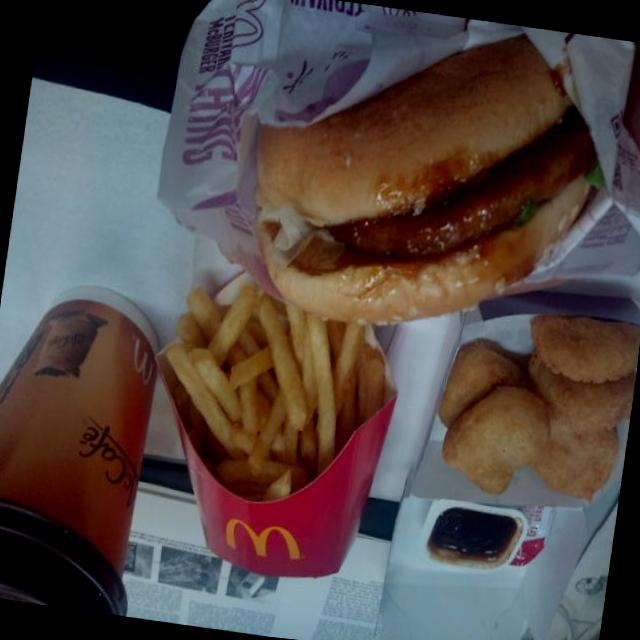French Fries: (147, 289, 411, 518)
Hamburger: (230, 19, 616, 357)
